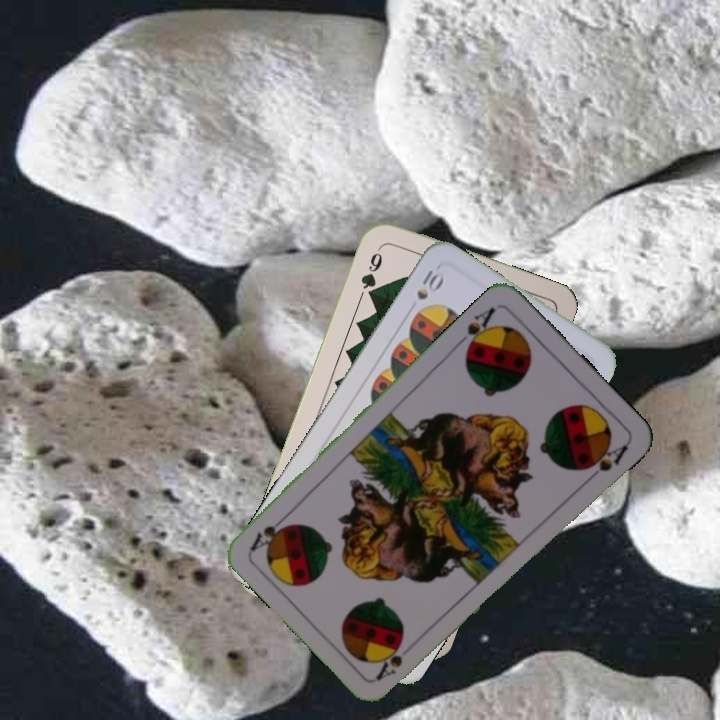G9: (357, 242, 385, 302)
S10: (412, 265, 445, 303)
SA: (454, 303, 498, 355), (371, 640, 405, 683)
